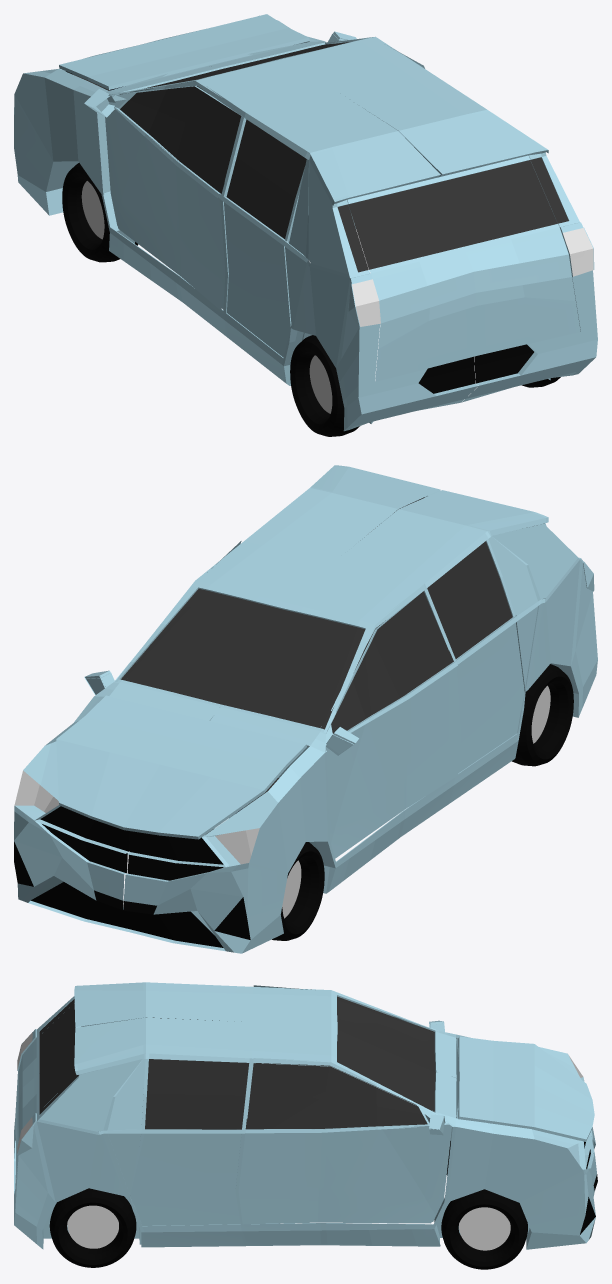
Rendered from axia-v2.fbx.
The picture shows the model from 3 angles, top to bottom: view 1: azimuth 30°, elevation 25°; view 2: azimuth 150°, elevation 25°; view 3: azimuth 270°, elevation 25°; orthographic projection. The views are drawn at different scales.
Visible parts, largest first — view 1: CarChassis, Hood, Left-RT, Left-FT, Rims.001, Rims.003; view 2: CarChassis, Hood, Left-RT, Left-FT, Rims.003, Rims.001; view 3: CarChassis, Hood, Right-RT, Right-FT, Rims.002, Rims.004.
Boxes of the visible parts, x1,y1,x2,y2 form: CarChassis: [14, 15, 597, 431]; Hood: [59, 14, 309, 89]; Left-RT: [290, 335, 359, 436]; Left-FT: [62, 163, 138, 262]; Rims.001: [81, 181, 104, 239]; Rims.003: [309, 355, 332, 413]; CarChassis: [14, 465, 597, 953]; Hood: [56, 695, 306, 839]; Left-RT: [512, 664, 573, 766]; Left-FT: [272, 842, 324, 940]; Rims.003: [531, 685, 550, 743]; Rims.001: [282, 860, 301, 918]; CarChassis: [14, 982, 597, 1249]; Hood: [458, 1036, 594, 1141]; Right-RT: [49, 1188, 136, 1267]; Right-FT: [441, 1189, 527, 1269]; Rims.002: [459, 1207, 510, 1250]; Rims.004: [67, 1205, 118, 1248].
Size of the model in its own units: 119 by 107 by 271.
